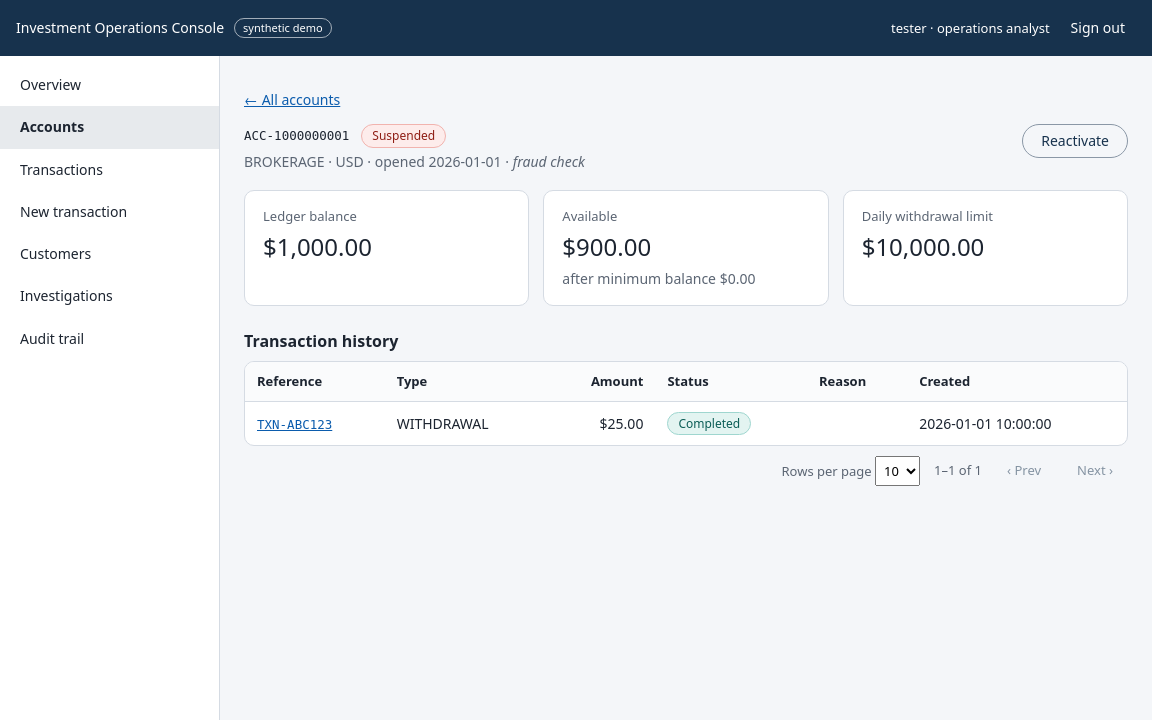
Test case: Account detail › an operator can reactivate a suspended account
Check: the text "fraud check" is shown, box [513,152,585,171]
Click the button "Reactivate" at (1075, 141), box [1022,124,1128,158]
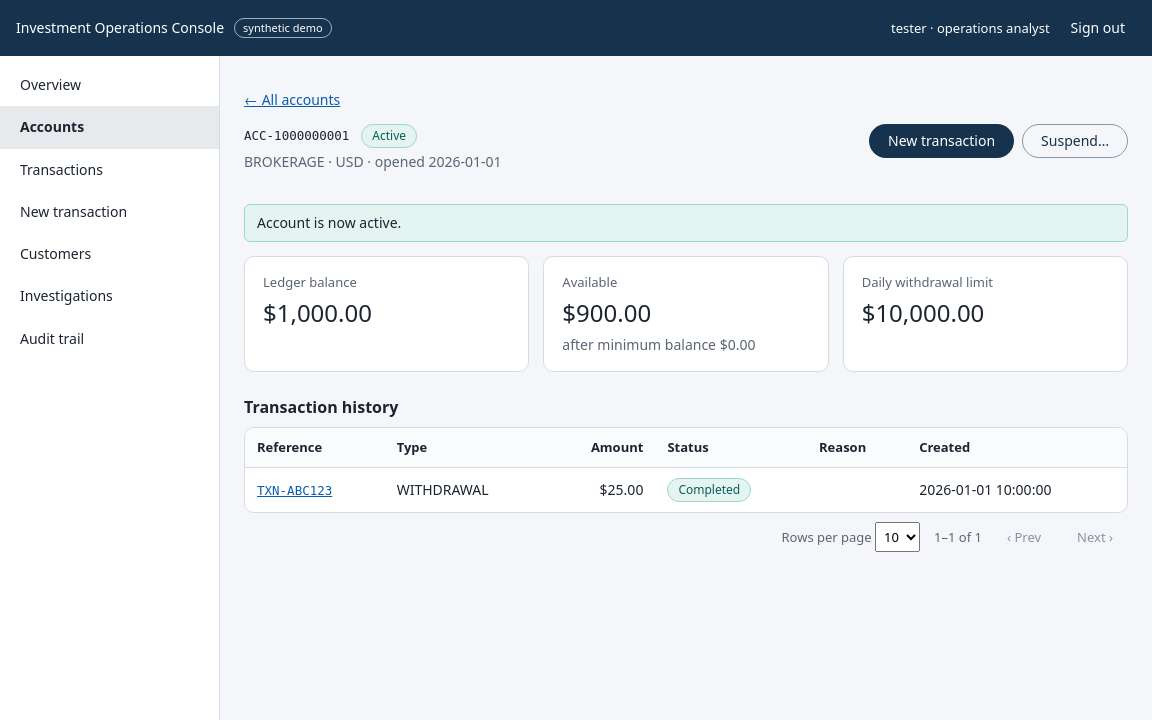
Check: the text "Account is now active." is shown, box [244,204,1128,242]
